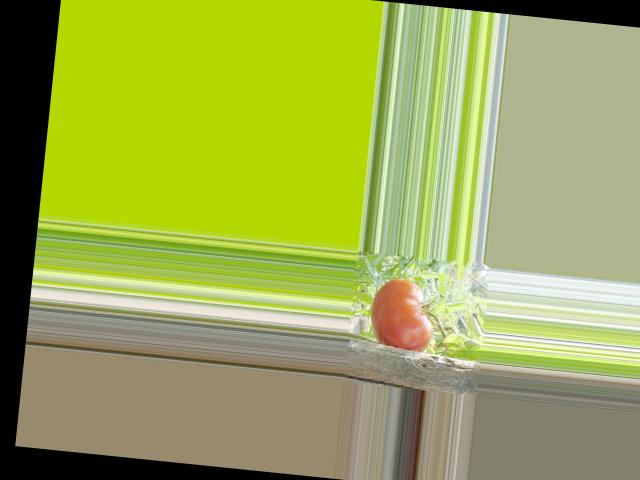tomato: (368, 275, 438, 353)
